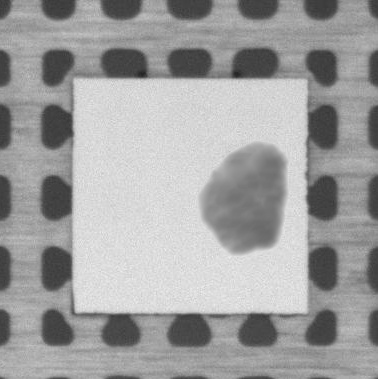DIE_INK: (189, 132, 295, 265)
